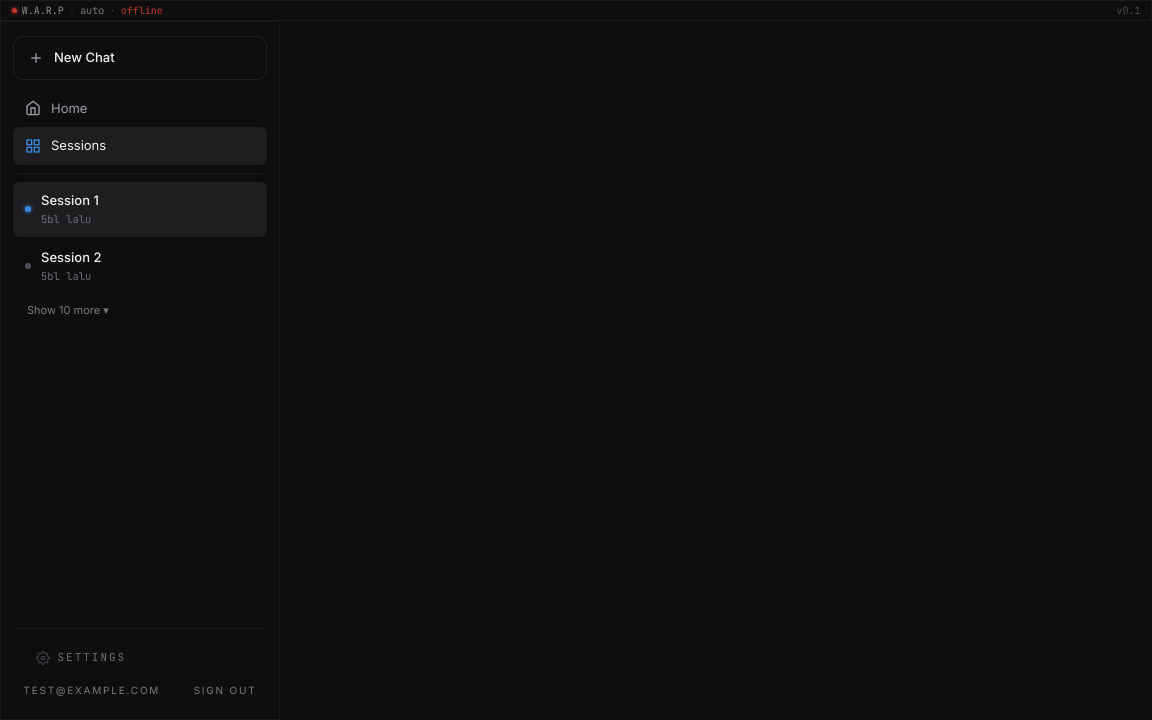
AppShell — sidebar paging integration › requests the next page with before=<cursor>&beforeId=<id>&limit=10 and appends the new rows
The image size is (1152, 720).
Expected: the text "Session 1" is shown, [41, 192, 99, 208]
Click the button with aria-label "show 10 more sessions" at (140, 310), box [13, 295, 267, 325]
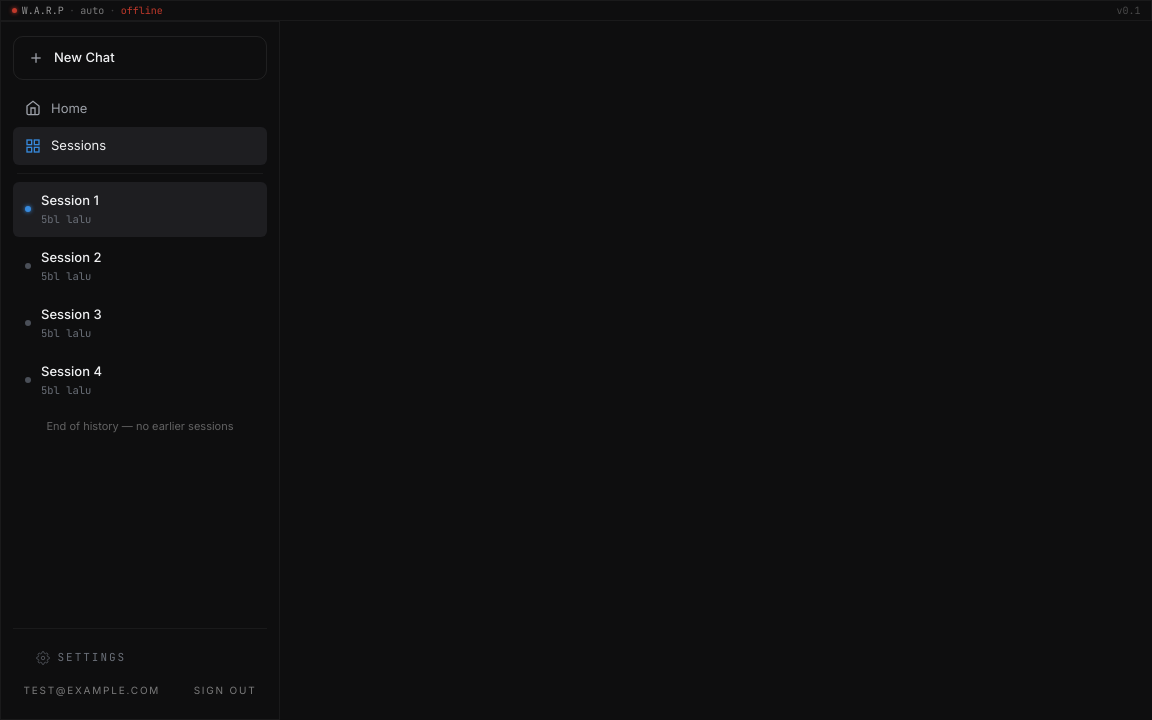
Expected: the text "Session 1" is shown, [41, 192, 99, 208]
Result: the text "Session 3" is shown at [41, 306, 102, 322]
Result: the text "Session 4" is shown at [41, 362, 102, 378]
